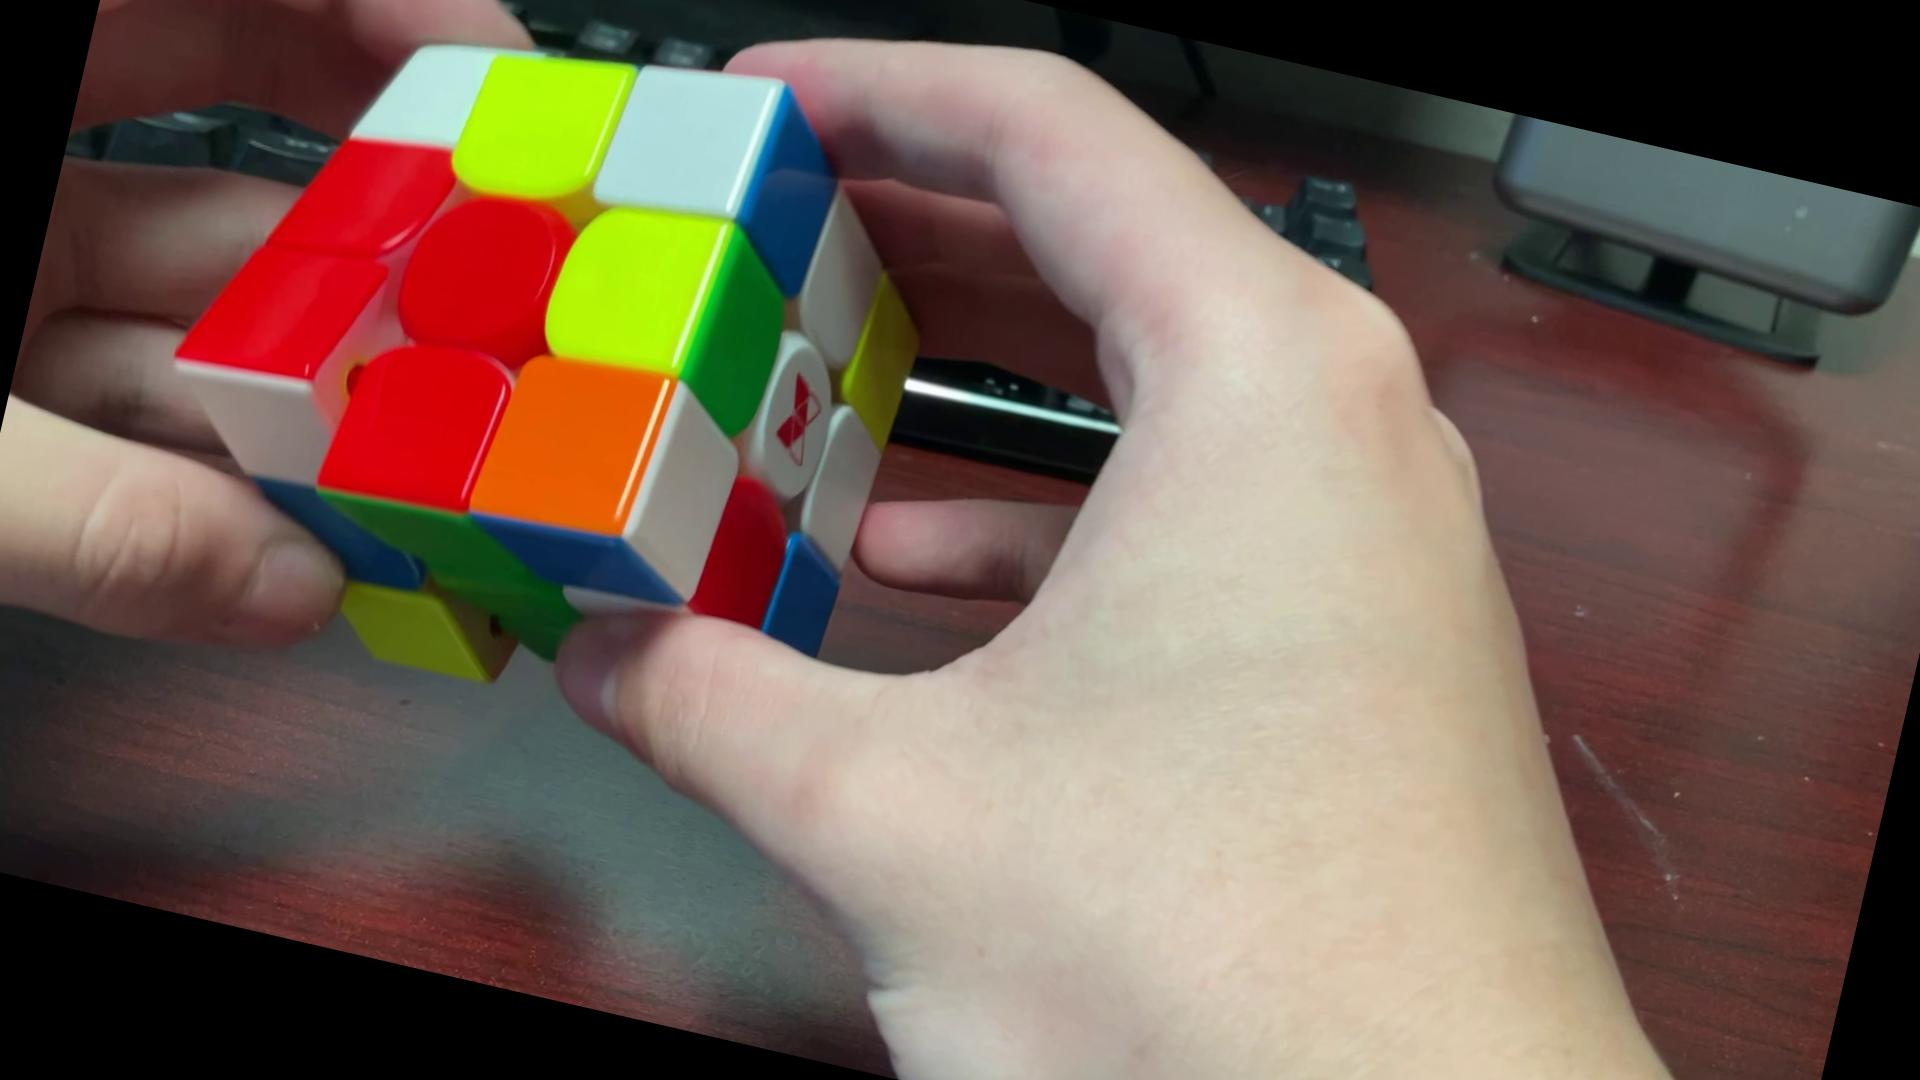Rubiks-Cube: (108, 0, 984, 771)
